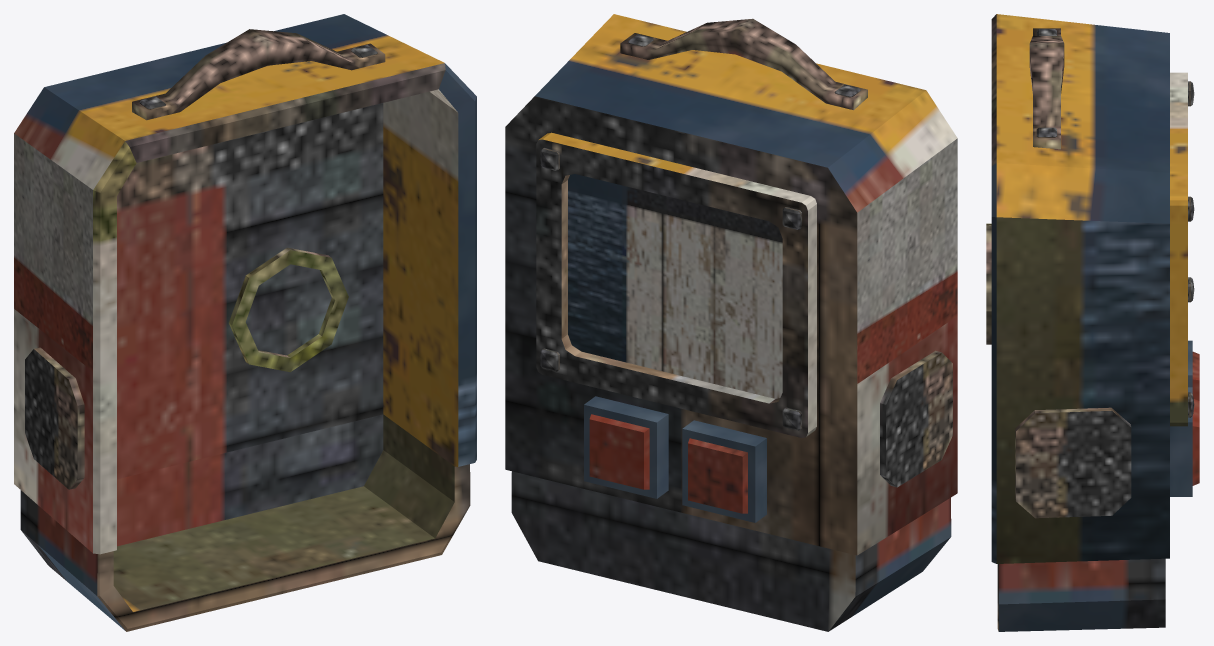
Rendered from Bag_Quackbear.fbx.
3 views of the same model, side by side, from view 1: azimuth 30°, elevation 25°; view 2: azimuth 150°, elevation 25°; view 3: azimuth 270°, elevation 25° (orthographic). The views are drawn at different scales.
Visible parts, largest first — view 1: Bag_Quackbear, Slot; view 2: Bag_Quackbear; view 3: Bag_Quackbear, Slot.
Part boxes in pixels (<box>): Bag_Quackbear: <box>14,14,476,631</box>; Slot: <box>228,247,348,372</box>; Bag_Quackbear: <box>505,14,957,631</box>; Bag_Quackbear: <box>991,14,1199,631</box>; Slot: <box>986,223,991,344</box>.
Size of the model in its own units: 39.55 by 51.64 by 19.43.
